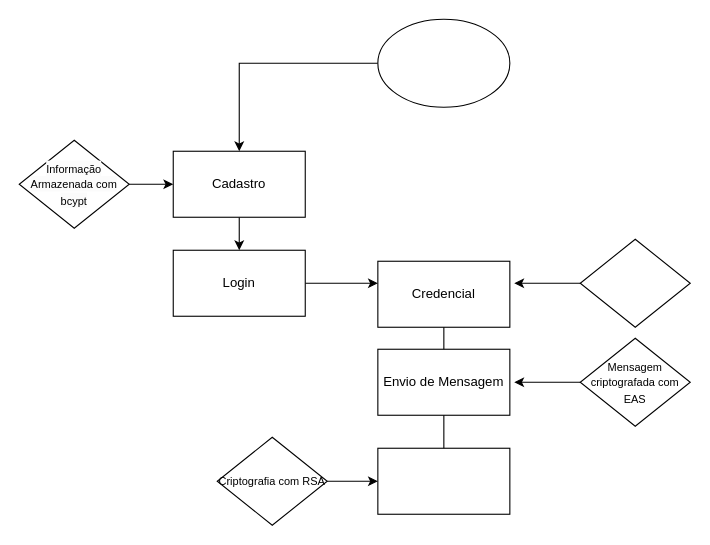
This 710x545 diagram has some shape labels left out. Here are the shapes that lost their labels. From the top down, the centre of each, then its label:
At [443,62]: "Usuario".
At [634,282]: "Autenticado via JWT".
At [443,480]: "Descriptografia".
